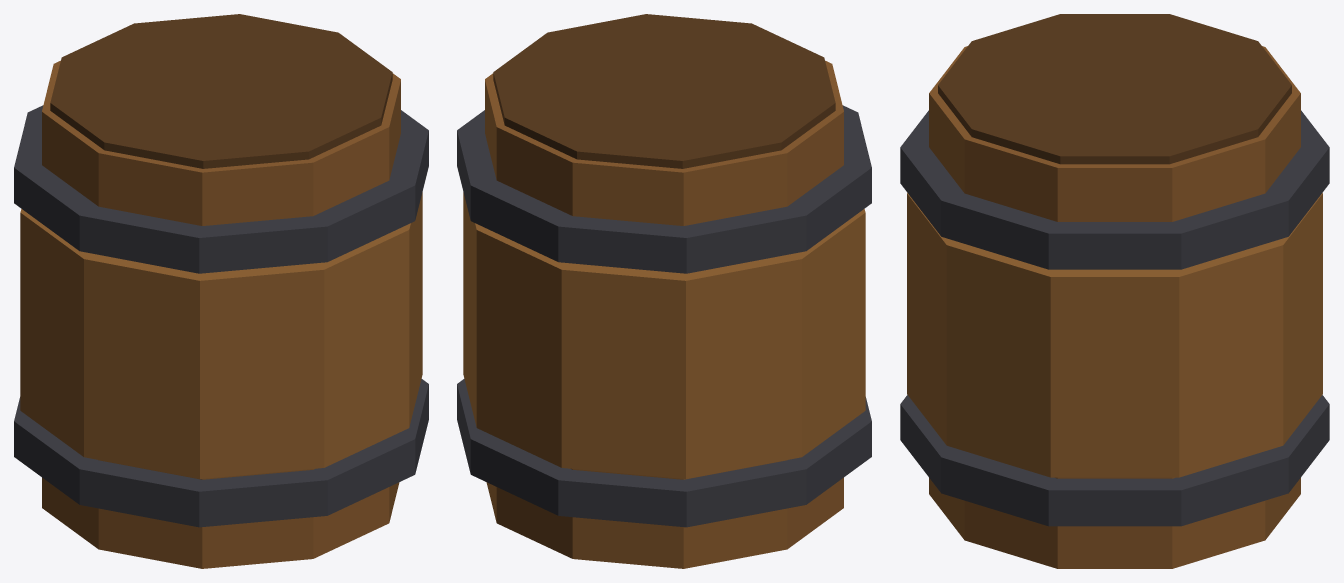
The model's file is barrel.glb.
3 renders of one model, left to right at view 1: azimuth 30°, elevation 25°; view 2: azimuth 150°, elevation 25°; view 3: azimuth 270°, elevation 25°, orthographic.
Visible parts, largest first — view 1: belly, lid, body, band.001, band; view 2: belly, lid, body, band.001, band; view 3: belly, lid, body, band.001, band.
Part boxes in pixels (bbox=[...]): belly: bbox=[20, 192, 422, 478]; lid: bbox=[50, 14, 392, 168]; body: bbox=[42, 60, 400, 568]; band.001: bbox=[14, 105, 428, 273]; band: bbox=[14, 379, 428, 527]; belly: bbox=[463, 192, 865, 478]; lid: bbox=[493, 14, 835, 168]; body: bbox=[485, 60, 843, 568]; band.001: bbox=[457, 105, 871, 273]; band: bbox=[457, 379, 871, 527]; belly: bbox=[907, 193, 1322, 477]; lid: bbox=[938, 14, 1291, 164]; body: bbox=[929, 46, 1300, 568]; band.001: bbox=[900, 110, 1329, 269]; band: bbox=[900, 395, 1329, 526].
Size of the model in its own units: 0.9225 by 1.02 by 0.97.
